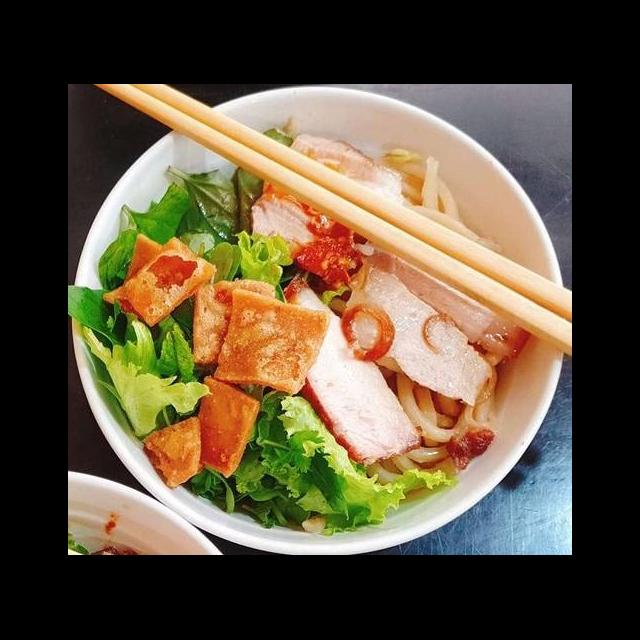banh da: (208, 284, 333, 400), (98, 230, 220, 328), (186, 276, 279, 368), (185, 372, 264, 480), (138, 412, 208, 493)
mi: (362, 361, 503, 488), (386, 154, 504, 256)
mi quang: (80, 119, 567, 514)
thit heo: (334, 245, 537, 410), (265, 274, 428, 474), (243, 130, 407, 274)
